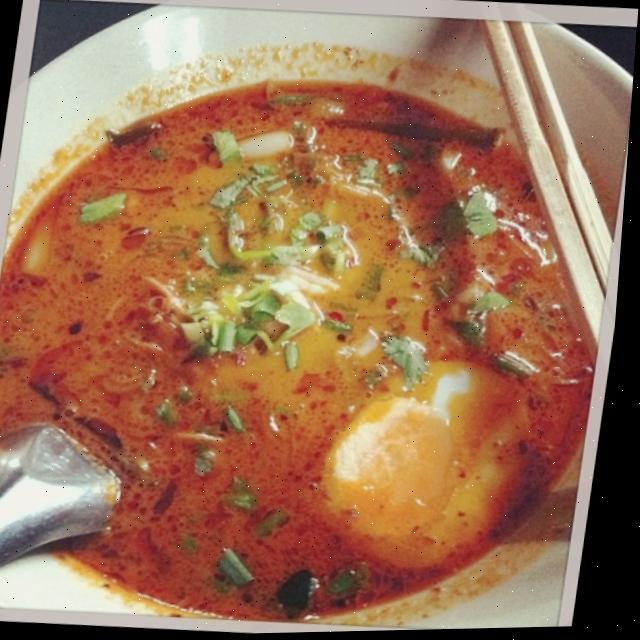汤锅炖物: (0, 22, 638, 624)
